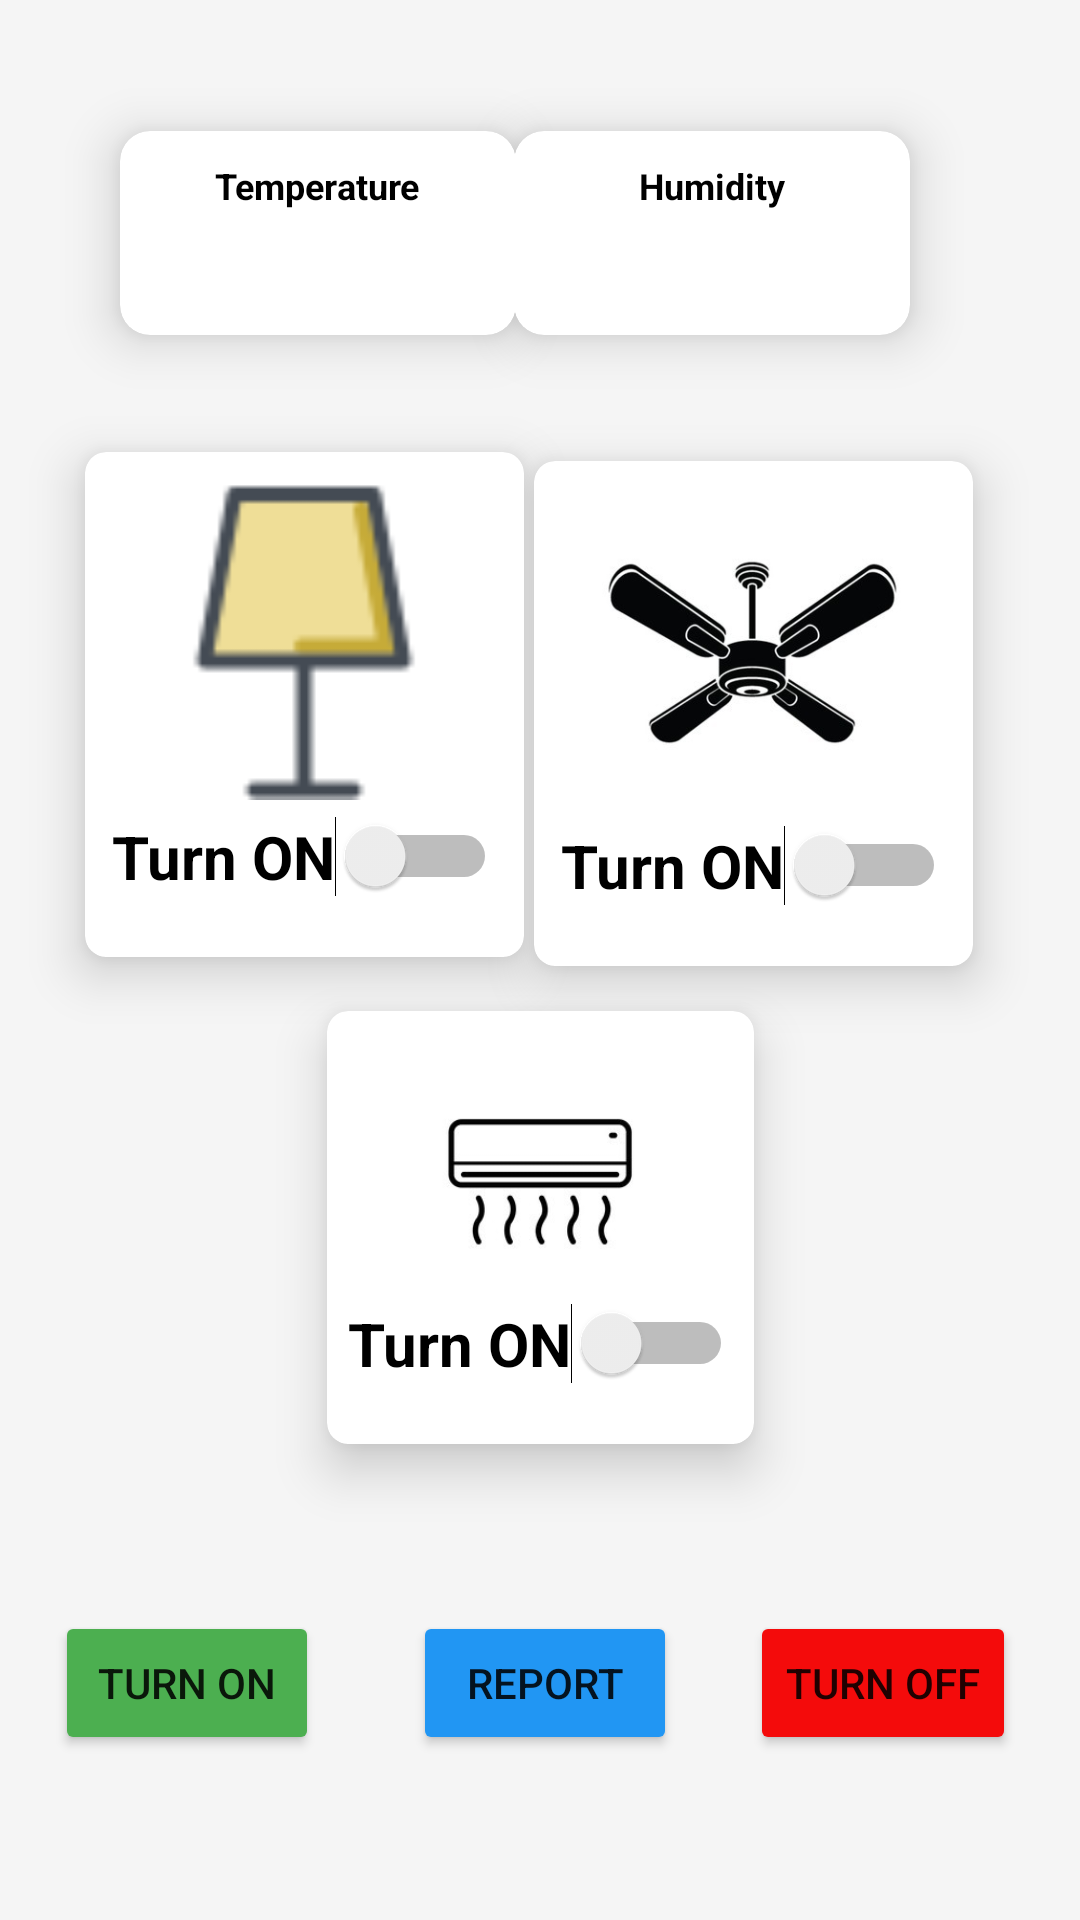

Locate icon controls on the screen. Image size 1080 x 1920, boxes as {"left": x1, "top": y1, "right": x2, "bottom": y2}.
aac: {"left": 448, "top": 1119, "right": 632, "bottom": 1245}
fan: {"left": 608, "top": 561, "right": 897, "bottom": 743}
lamp: {"left": 194, "top": 485, "right": 414, "bottom": 800}
